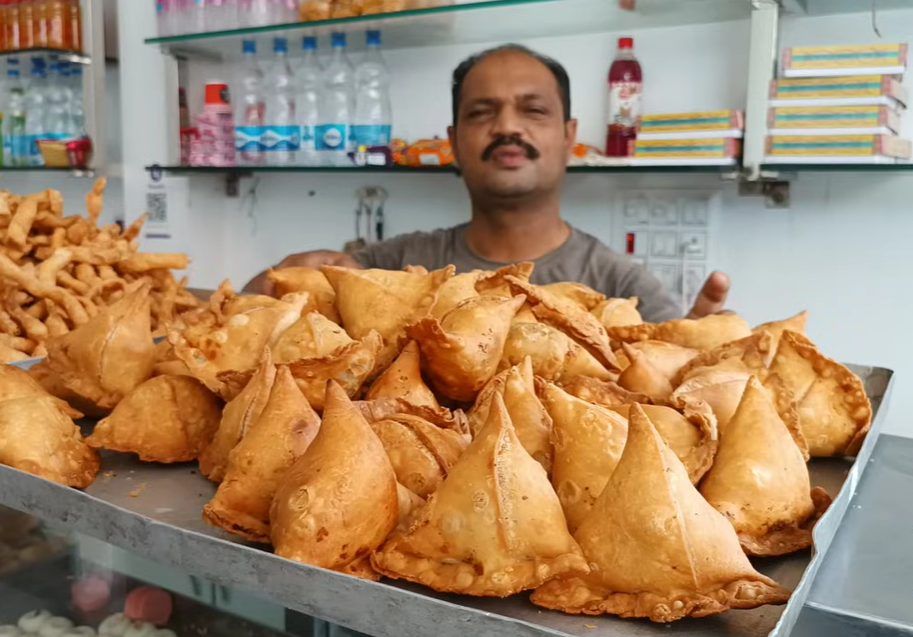samosa: (527, 400, 791, 610), (374, 391, 589, 594), (264, 376, 397, 569), (704, 371, 827, 519), (44, 276, 163, 397), (83, 367, 223, 463), (310, 263, 461, 340)
